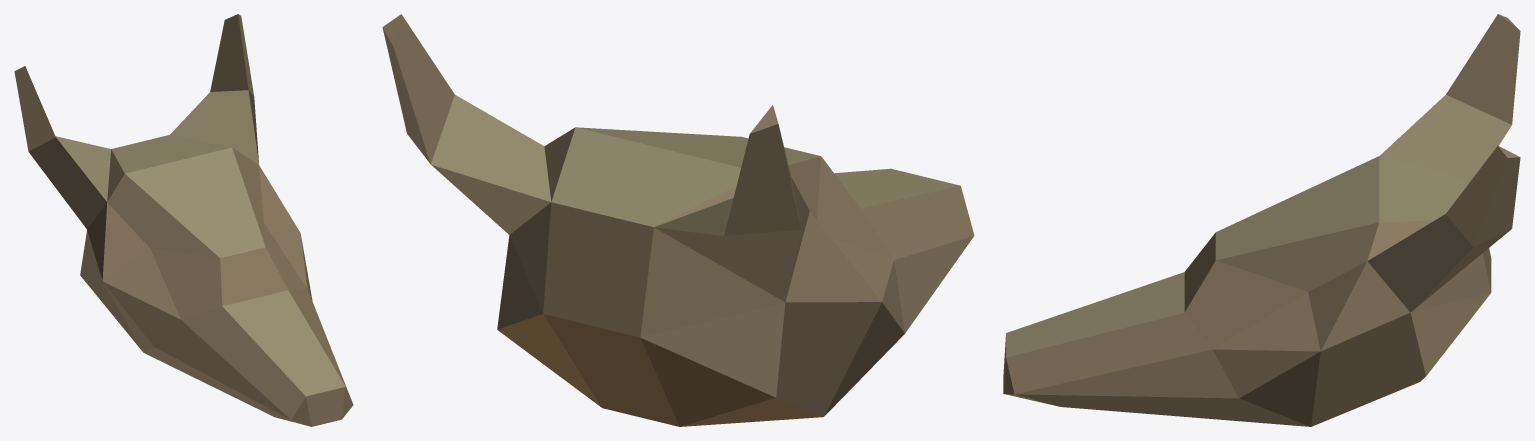
The model's file is TB_D_Env_BoneA_B.FBX.
The picture shows the model from 3 angles, left to right: view 1: azimuth 30°, elevation 25°; view 2: azimuth 150°, elevation 25°; view 3: azimuth 270°, elevation 25°; orthographic projection. The views are drawn at different scales.
Parts seen in each view (by area): view 1: TB_D_Env_BoneA_B; view 2: TB_D_Env_BoneA_B; view 3: TB_D_Env_BoneA_B.
Part boxes in pixels (<box>): TB_D_Env_BoneA_B: <box>14,14,353,426</box>; TB_D_Env_BoneA_B: <box>382,14,974,426</box>; TB_D_Env_BoneA_B: <box>1003,14,1520,426</box>.
Bounding box in the file's own units: 1.88 × 1.93 × 2.93.
